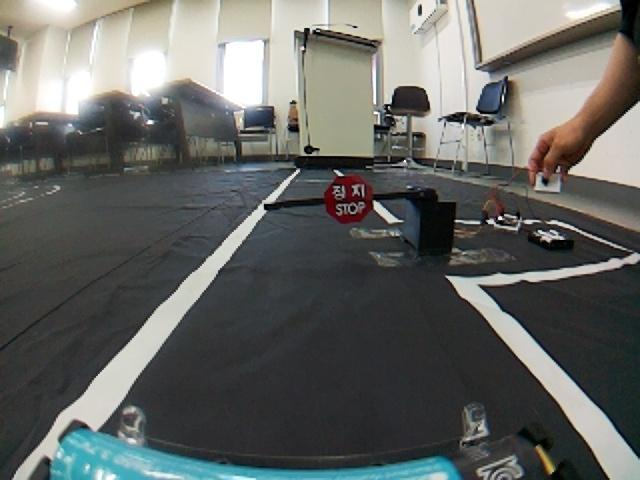sign_stop: (324, 173, 372, 225)
straight: (0, 176, 640, 480)
